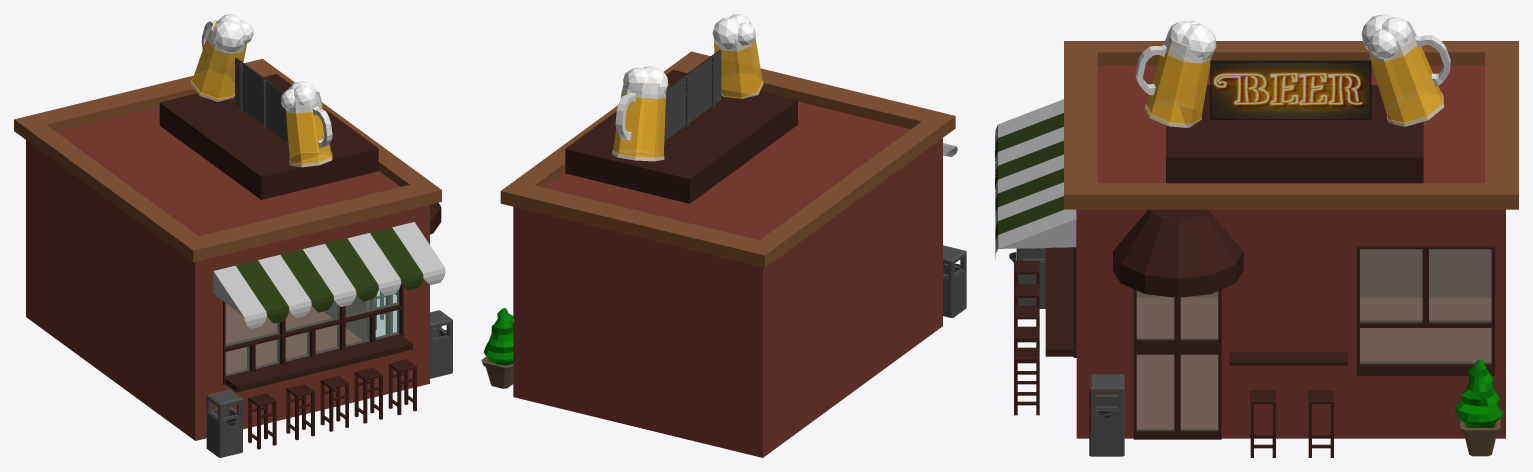
The picture shows the model from 3 angles, left to right: view 1: azimuth 30°, elevation 25°; view 2: azimuth 150°, elevation 25°; view 3: azimuth 270°, elevation 25°; orthographic projection. The views are drawn at different scales.
Parts seen in each view (by area): view 1: casa base, tetto, tenda frontale.001, base insegne, finestra sx, vetri sx, Cylinder.001, Cube.004, Cylinder, insegna, Cube.002, Cube.007 (+6 smaller); view 2: casa base, tetto, base insegne, Cylinder, insegna, Cylinder.001, Cube.004, cespugli, Icosphere.004, piante, Icosphere.001, Cube (+1 smaller); view 3: casa base, tetto, base insegne, vetri dx, tenda frontale.001, insegna, tettoia, vetri porta, finestra dx, Cylinder, porta, Cylinder.001 (+15 smaller).
Boxes of the visible parts, box(x1,y1,x2,y2) form: casa base: box(26, 140, 429, 440); tetto: box(14, 59, 441, 262); tenda frontale.001: box(213, 222, 445, 328); base insegne: box(159, 74, 378, 199); finestra sx: box(223, 284, 412, 392); vetri sx: box(226, 290, 398, 375); Cylinder.001: box(286, 91, 332, 167); Cube.004: box(206, 389, 242, 457); Cylinder: box(190, 20, 246, 101); insegna: box(235, 57, 287, 142); Cube.002: box(430, 310, 452, 378); Cube.007: box(354, 367, 382, 423); casa base: box(513, 138, 942, 457); tetto: box(500, 51, 955, 267); base insegne: box(565, 69, 797, 203); Cylinder: box(612, 79, 665, 161); insegna: box(664, 50, 721, 140); Cylinder.001: box(714, 37, 763, 98); Cube.004: box(943, 245, 966, 317); cespugli: box(484, 308, 513, 365); Icosphere.004: box(712, 17, 739, 49); piante: box(481, 356, 513, 388); Icosphere.001: box(639, 66, 668, 101); Cube: box(615, 92, 636, 140); casa base: box(1076, 209, 1505, 438); tetto: box(1064, 41, 1518, 209); base insegne: box(1166, 85, 1423, 183); vetri dx: box(1360, 249, 1491, 363); tenda frontale.001: box(995, 99, 1076, 259); insegna: box(1210, 60, 1371, 119); tettoia: box(1113, 209, 1243, 297); vetri porta: box(1137, 291, 1217, 430); finestra dx: box(1356, 246, 1494, 375); Cylinder: box(1367, 21, 1443, 126); porta: box(1133, 289, 1221, 439); Cylinder.001: box(1144, 35, 1211, 127).
Bounding box in the file's own units: 4.88 × 4.8 × 6.1.
8 materials, 4 textured.
